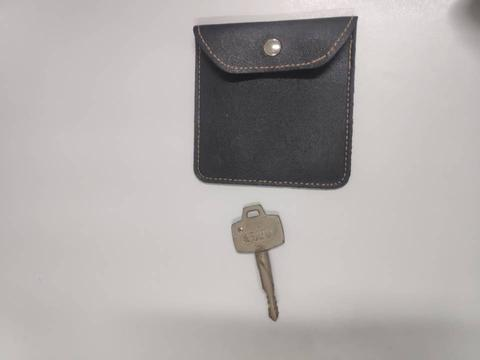key: (231, 200, 287, 320)
wallet: (187, 19, 366, 190)
